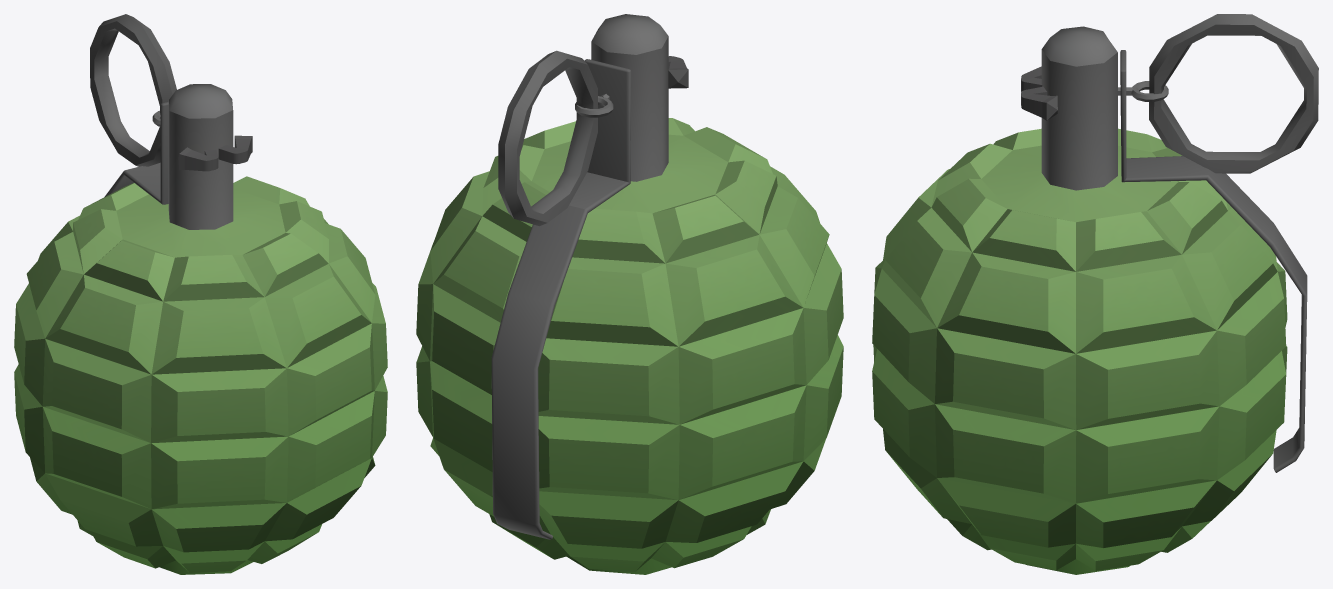
Rendered from HGgrenade.fbx.
The picture shows the model from 3 angles, left to right: view 1: azimuth 30°, elevation 25°; view 2: azimuth 150°, elevation 25°; view 3: azimuth 270°, elevation 25°; orthographic projection. The views are drawn at different scales.
Visible parts, largest first — view 1: GrenadeBomb; view 2: GrenadeBomb; view 3: GrenadeBomb.
Boxes of the visible parts, <box> form: GrenadeBomb: <box>14,14,387,574</box>; GrenadeBomb: <box>416,14,843,574</box>; GrenadeBomb: <box>872,14,1318,574</box>.
Size of the model in its own units: 0.1099 by 0.1182 by 0.1552.
